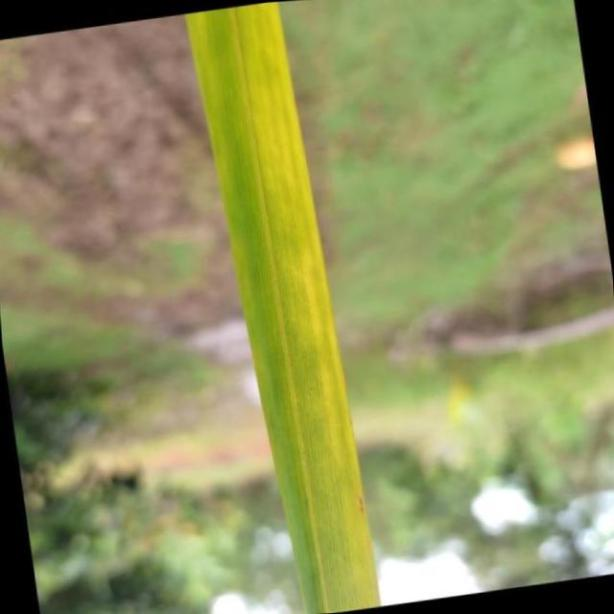nitrogen: (184, 5, 377, 614)
